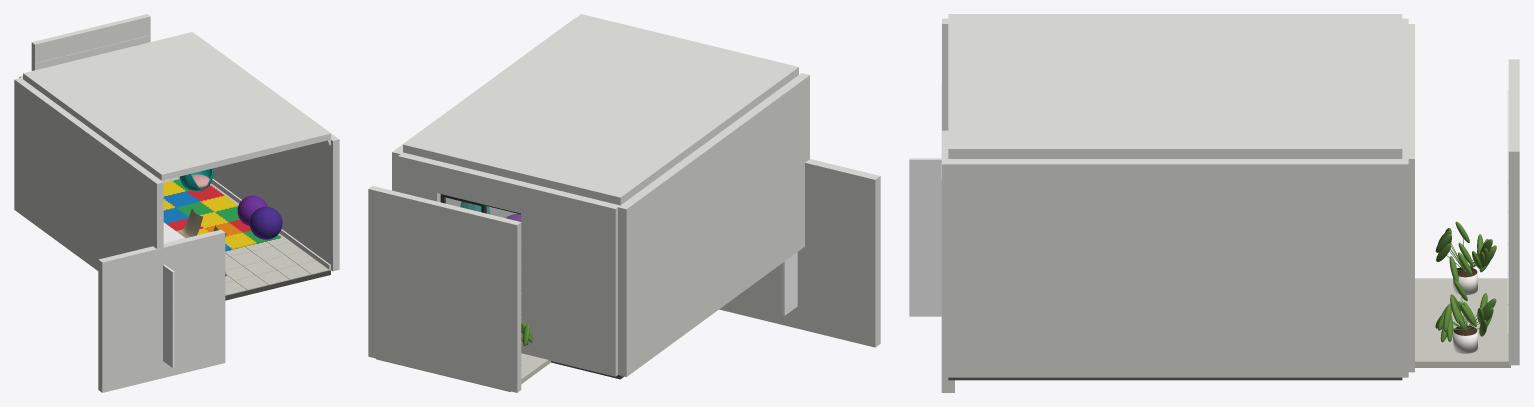
Rendered from sala_atendimento_infantil.glb.
The picture shows the model from 3 angles, left to right: view 1: azimuth 30°, elevation 25°; view 2: azimuth 150°, elevation 25°; view 3: azimuth 270°, elevation 25°; orthographic projection. The views are drawn at different scales.
Parts seen in each view (by area): view 1: Teto • ocultar para vista superior, Parede esquerda, Parede frontal • não aparece na câmera, Parede direita, Muro do pátio, Entrada • folha aberta, Bola de pilates, Contrapiso e juntas, Rodapé lateral.001, Bola de pilates.001, Cadeira visitante • concha curva.001, EVA • peça encaixável 11 (+14 smaller); view 2: Teto • ocultar para vista superior, Parede esquerda, Muro do pátio, Fundo lado pia, Parede frontal • não aparece na câmera, Verga da porta, Fundo lado balanço, Entrada • folha aberta, Parede direita, Pátio externo; view 3: Parede direita, Teto • ocultar para vista superior, Pátio externo, Entrada • folha aberta, Muro do pátio, Fundo lado balanço, Contrapiso e juntas, Parede esquerda, Fundo lado pia, Parede frontal • não aparece na câmera, Verga da porta.
Boxes of the visible parts, bbox=[...] form: Teto • ocultar para vista superior: bbox=[23, 32, 330, 180]; Parede esquerda: bbox=[14, 78, 163, 270]; Parede frontal • não aparece na câmera: bbox=[98, 229, 225, 392]; Parede direita: bbox=[196, 35, 339, 271]; Muro do pátio: bbox=[31, 14, 150, 70]; Entrada • folha aberta: bbox=[163, 264, 174, 367]; Bola de pilates: bbox=[249, 207, 282, 239]; Contrapiso e juntas: bbox=[225, 270, 330, 300]; Rodapé lateral.001: bbox=[211, 179, 330, 270]; Bola de pilates.001: bbox=[237, 195, 267, 225]; Cadeira visitante • concha curva.001: bbox=[176, 208, 203, 237]; EVA • peça encaixável 11: bbox=[200, 195, 238, 211]; Teto • ocultar para vista superior: bbox=[403, 14, 798, 205]; Parede esquerda: bbox=[618, 73, 809, 376]; Muro do pátio: bbox=[368, 186, 521, 392]; Fundo lado pia: bbox=[521, 182, 620, 376]; Parede frontal • não aparece na câmera: bbox=[719, 159, 880, 347]; Verga da porta: bbox=[437, 162, 525, 213]; Fundo lado balanço: bbox=[398, 152, 441, 202]; Entrada • folha aberta: bbox=[782, 252, 797, 315]; Parede direita: bbox=[392, 18, 575, 217]; Pátio externo: bbox=[376, 353, 550, 391]; Parede direita: bbox=[942, 159, 1408, 377]; Teto • ocultar para vista superior: bbox=[948, 14, 1402, 158]; Pátio externo: bbox=[1415, 278, 1510, 367]; Entrada • folha aberta: bbox=[909, 158, 941, 316]; Muro do pátio: bbox=[1508, 59, 1519, 365]; Fundo lado balanço: bbox=[1402, 134, 1414, 372]; Contrapiso e juntas: bbox=[948, 377, 1402, 380]; Parede esquerda: bbox=[942, 18, 1408, 130]; Fundo lado pia: bbox=[1402, 24, 1414, 82]; Parede frontal • não aparece na câmera: bbox=[941, 82, 954, 392]; Verga da porta: bbox=[1402, 82, 1414, 134].
Bounding box in the file's own units: 5.33 × 4.33 × 7.26.
